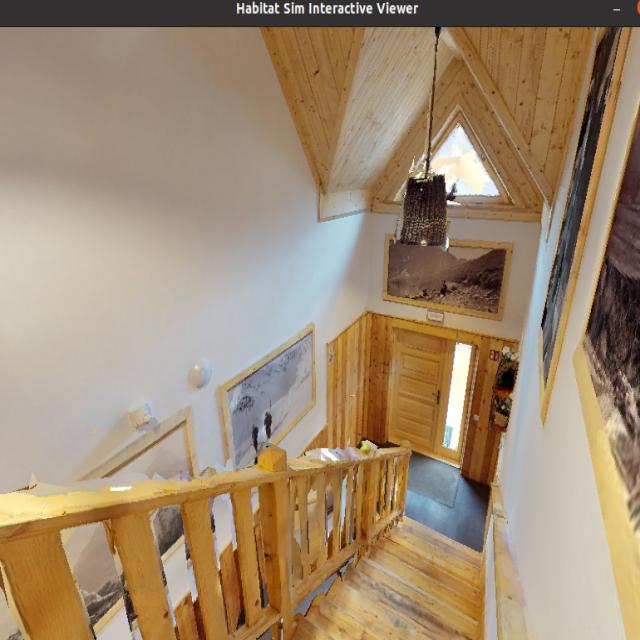stairs: (6, 439, 528, 640)
